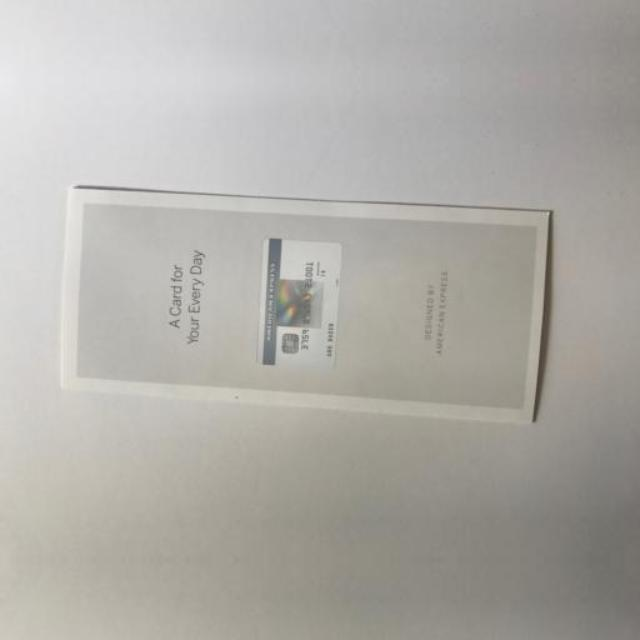paper: (48, 147, 572, 466), (48, 0, 572, 13)
